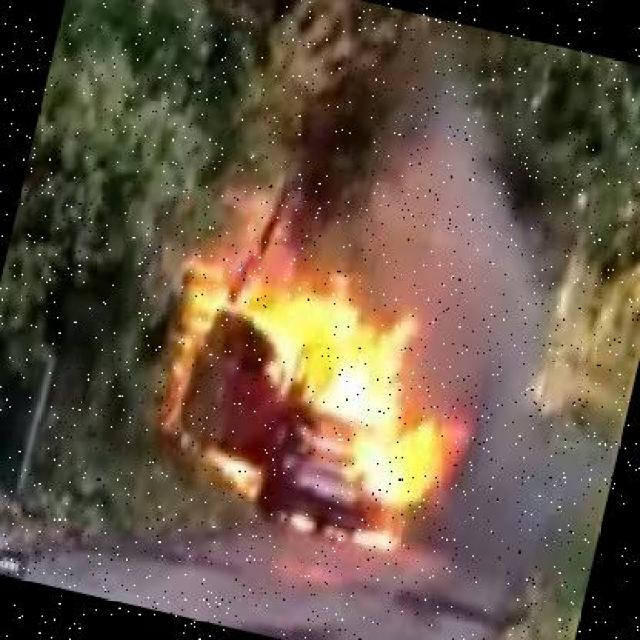fire: (125, 254, 500, 595)
